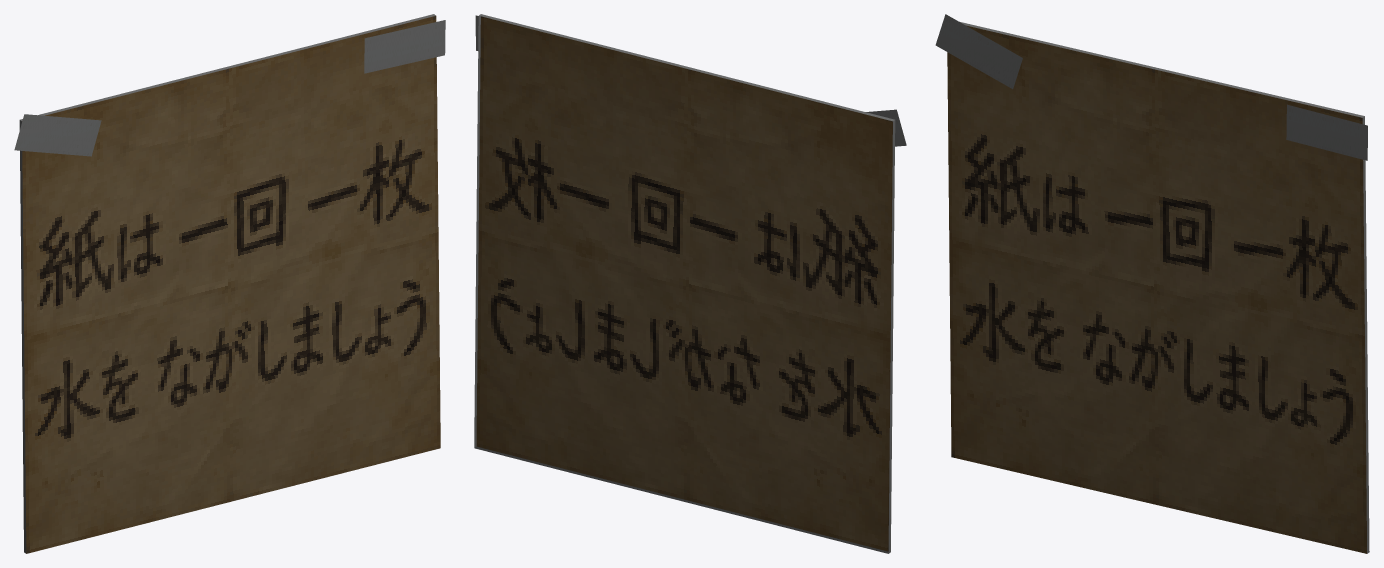
Rendered from prop_poster-toilet-5.glb.
The picture shows the model from 3 angles, left to right: view 1: azimuth 30°, elevation 25°; view 2: azimuth 150°, elevation 25°; view 3: azimuth 330°, elevation 25°; orthographic projection.
Parts seen in each view (by area): view 1: prop_poster-toilet-5; view 2: prop_poster-toilet-5; view 3: prop_poster-toilet-5.
Part boxes in pixels (<box>): prop_poster-toilet-5: <box>14,14,445,553</box>; prop_poster-toilet-5: <box>474,14,906,553</box>; prop_poster-toilet-5: <box>935,14,1369,553</box>.
Bounding box in the file's own units: 0.3197 × 0.3133 × 0.0055.
2 materials, 2 textured.
